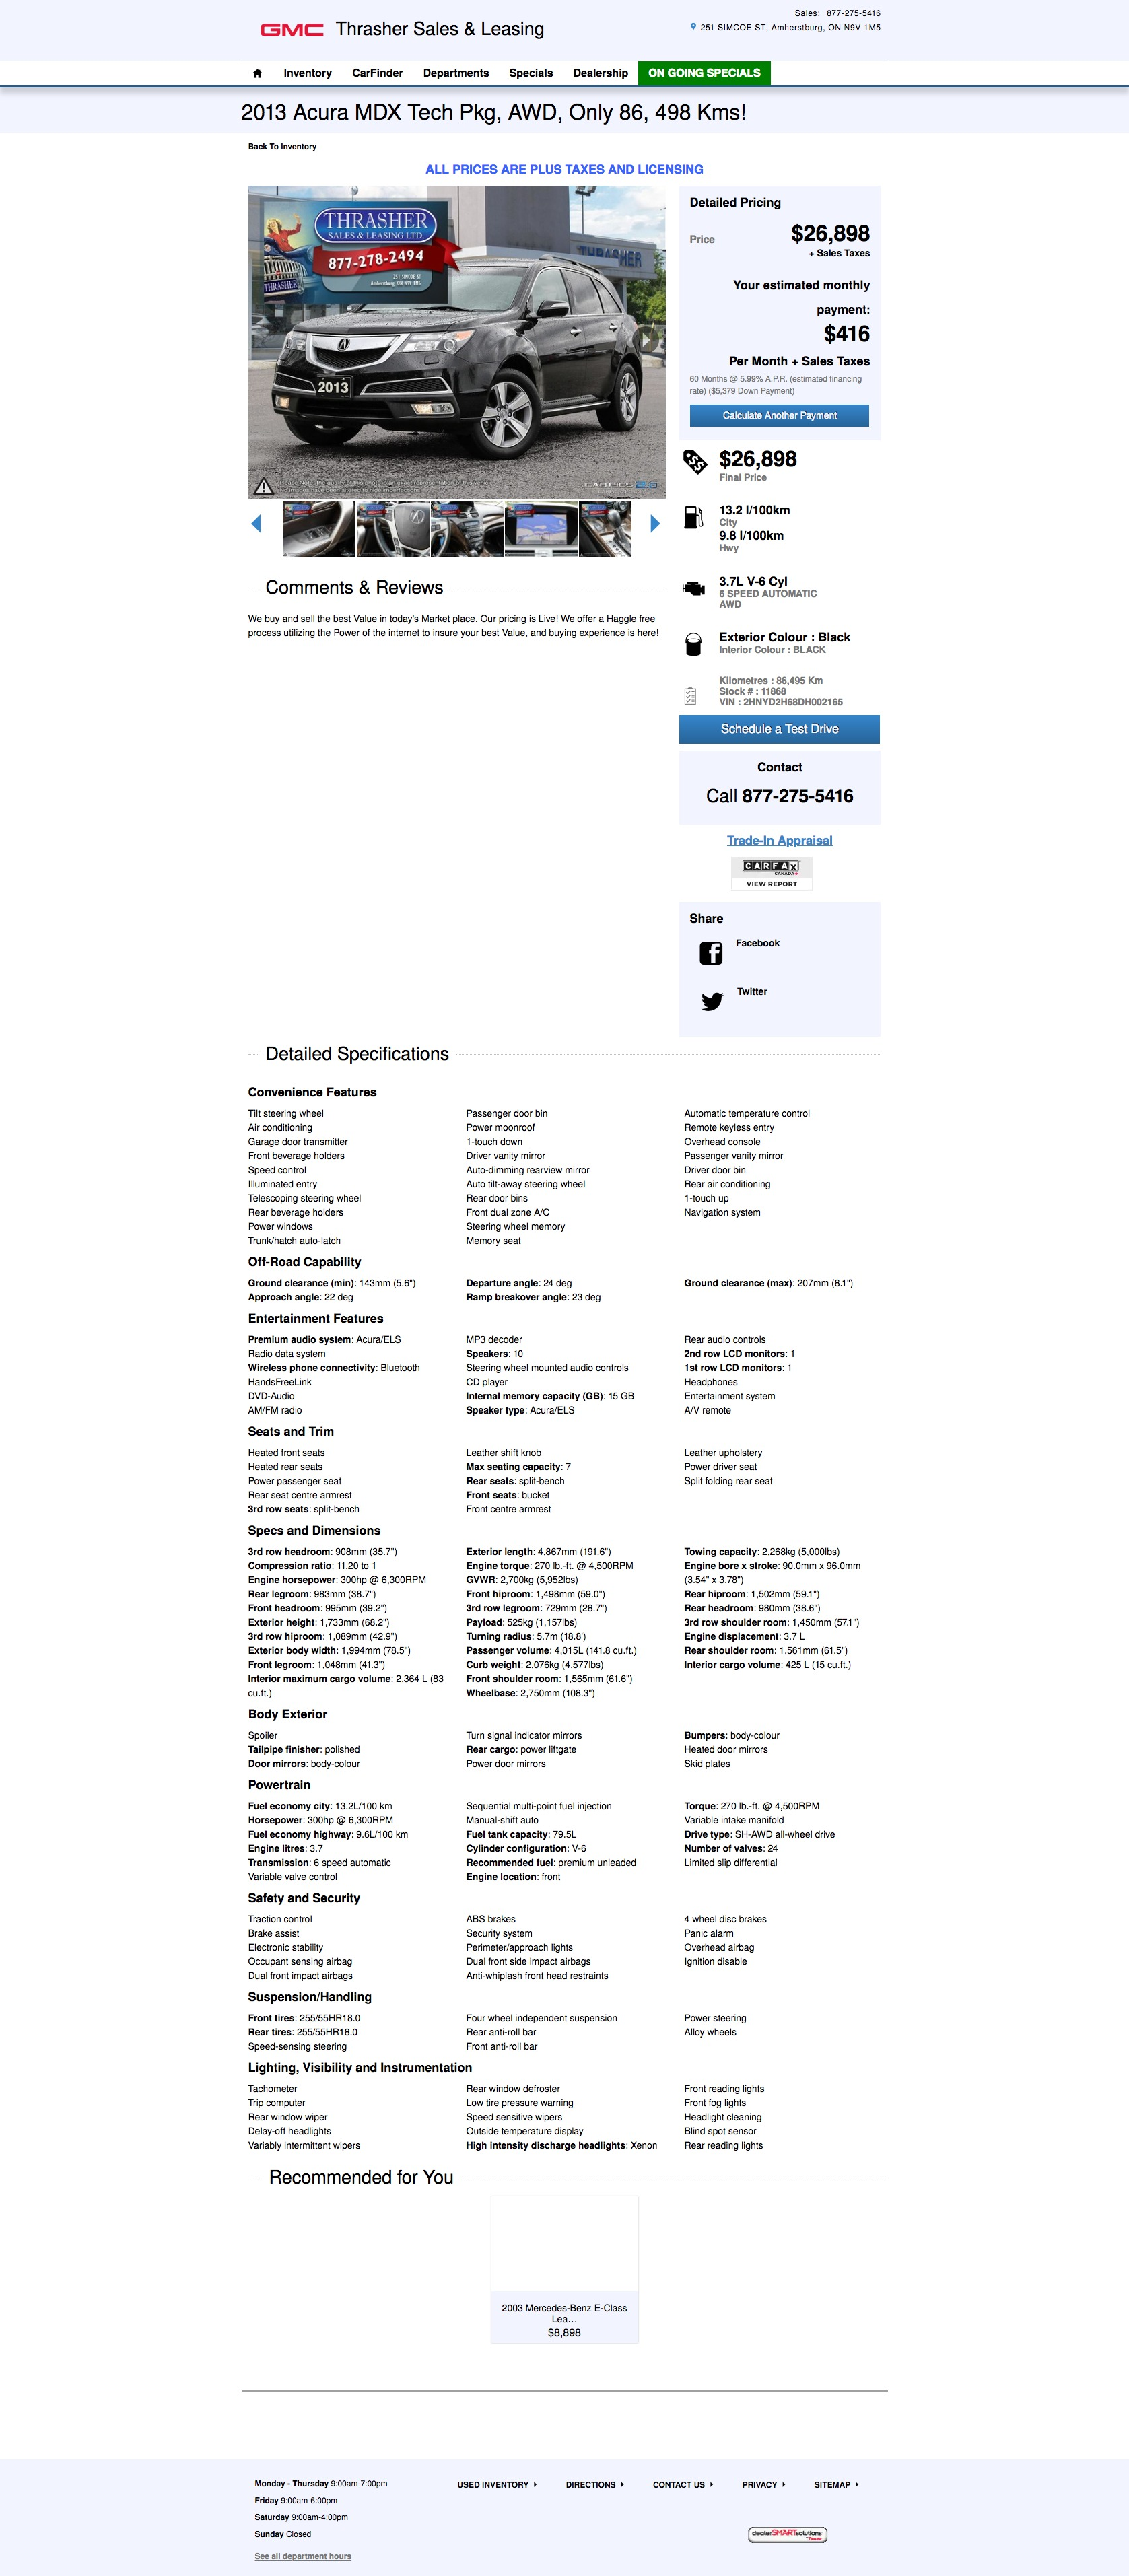car: (651, 514, 661, 534)
